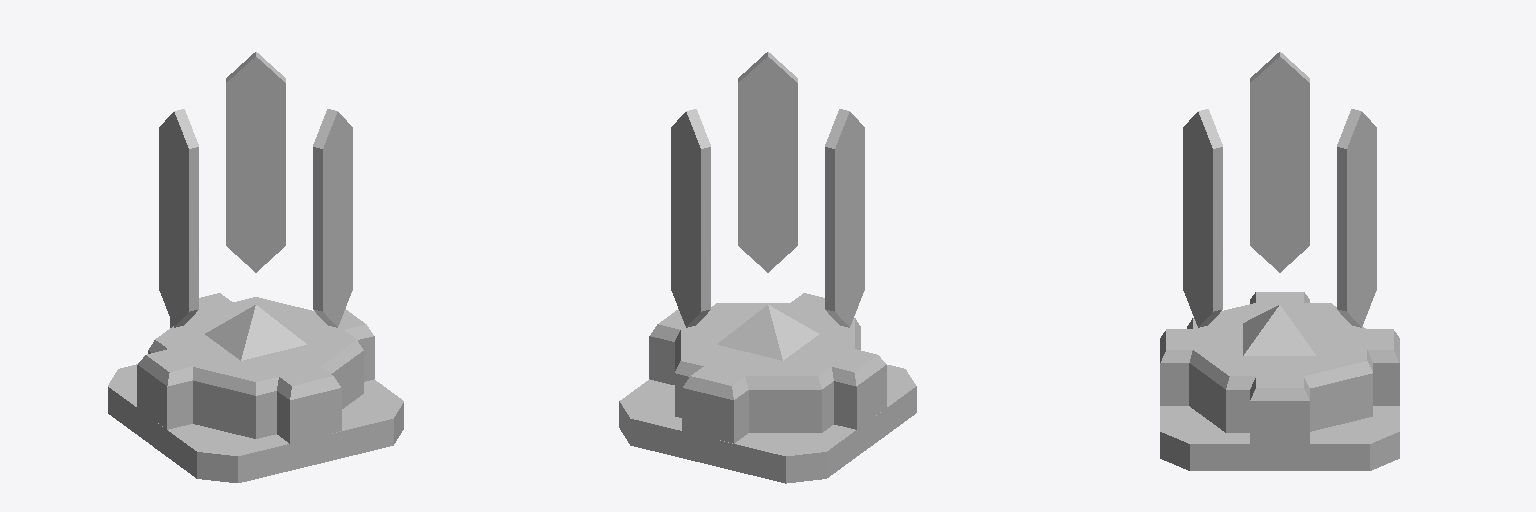
File: matrix.obj
3 views of the same model, side by side, from view 1: azimuth 30°, elevation 25°; view 2: azimuth 150°, elevation 25°; view 3: azimuth 270°, elevation 25° (orthographic).
Visible parts, largest first — view 1: Main, Duplicate02, Shield, Duplicate01, Core; view 2: Main, Duplicate01, Shield, Duplicate02, Core; view 3: Main, Shield, Duplicate01, Duplicate02, Core.
Part boxes in pixels (left/top/right/bottom): Main: left=108, top=293, right=403, bottom=482; Duplicate02: left=226, top=52, right=285, bottom=272; Shield: left=159, top=109, right=198, bottom=327; Duplicate01: left=313, top=109, right=352, bottom=327; Core: left=205, top=305, right=306, bottom=360; Main: left=619, top=293, right=916, bottom=483; Duplicate01: left=738, top=52, right=797, bottom=272; Shield: left=825, top=109, right=864, bottom=327; Duplicate02: left=671, top=109, right=710, bottom=327; Core: left=717, top=305, right=818, bottom=360; Main: left=1160, top=292, right=1399, bottom=470; Shield: left=1250, top=52, right=1309, bottom=272; Duplicate01: left=1183, top=109, right=1222, bottom=327; Duplicate02: left=1337, top=109, right=1376, bottom=327; Core: left=1243, top=305, right=1316, bottom=355.
Size of the model in its own units: 1.97 by 2.99 by 1.97.